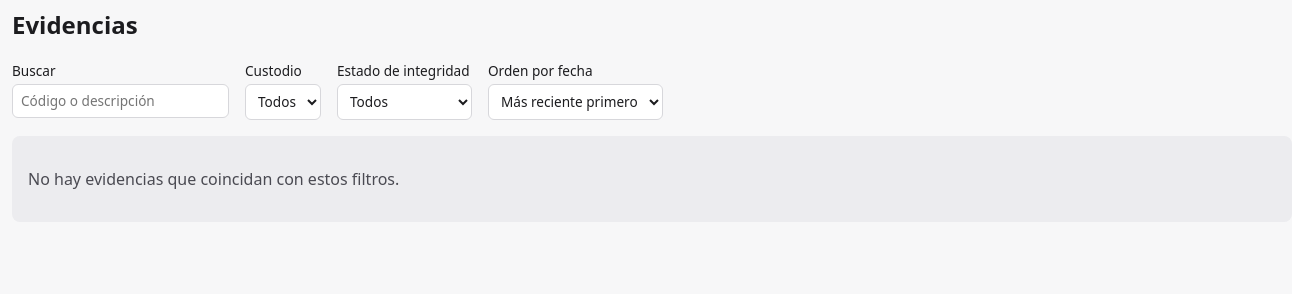
Test case: InboxPage › ignora una respuesta de búsqueda obsoleta que llega después del filtro actual
Type "slow" into the search field labelled "Buscar" at (120, 101), box [12,84,229,118]
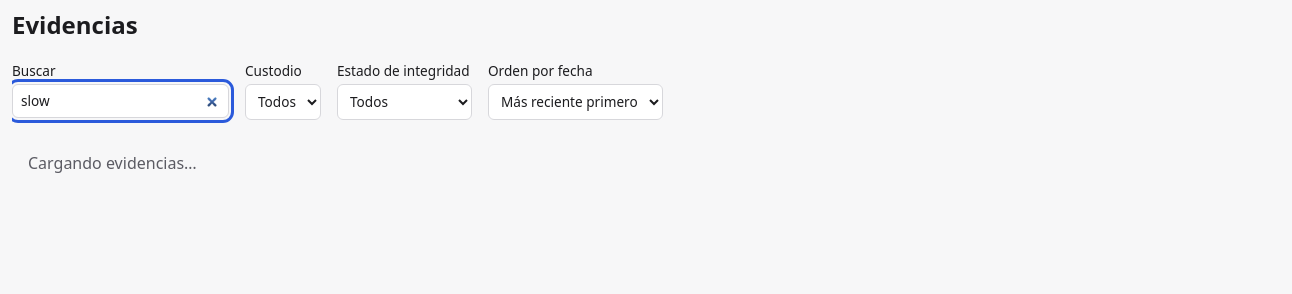
Replace the text in the search field labelled "Buscar" with "fast" at (120, 101), box [12,84,229,118]
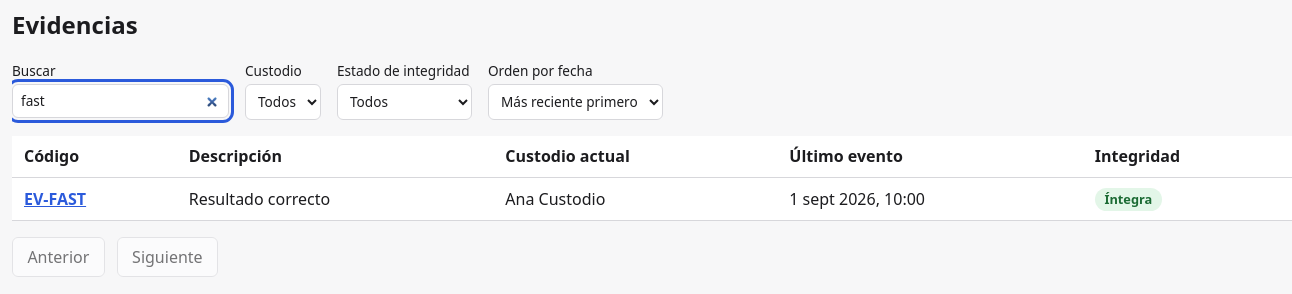
Result: the link "EV-FAST" is shown at [24,188,86,210]
